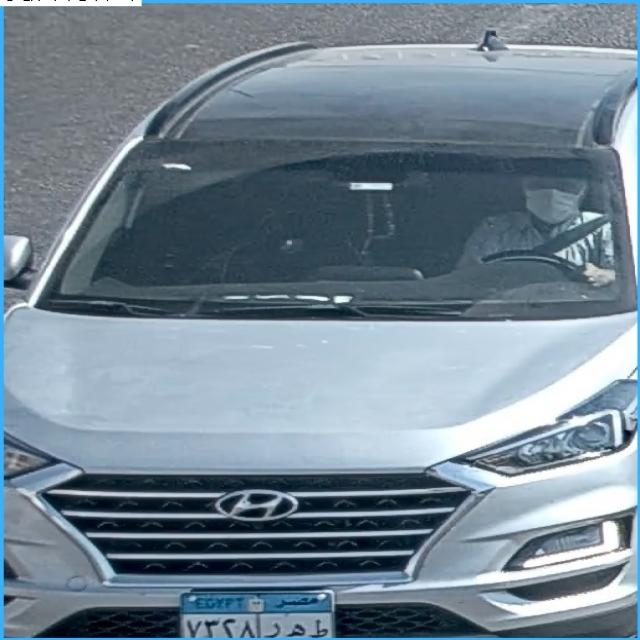windshield: (59, 152, 624, 314)
